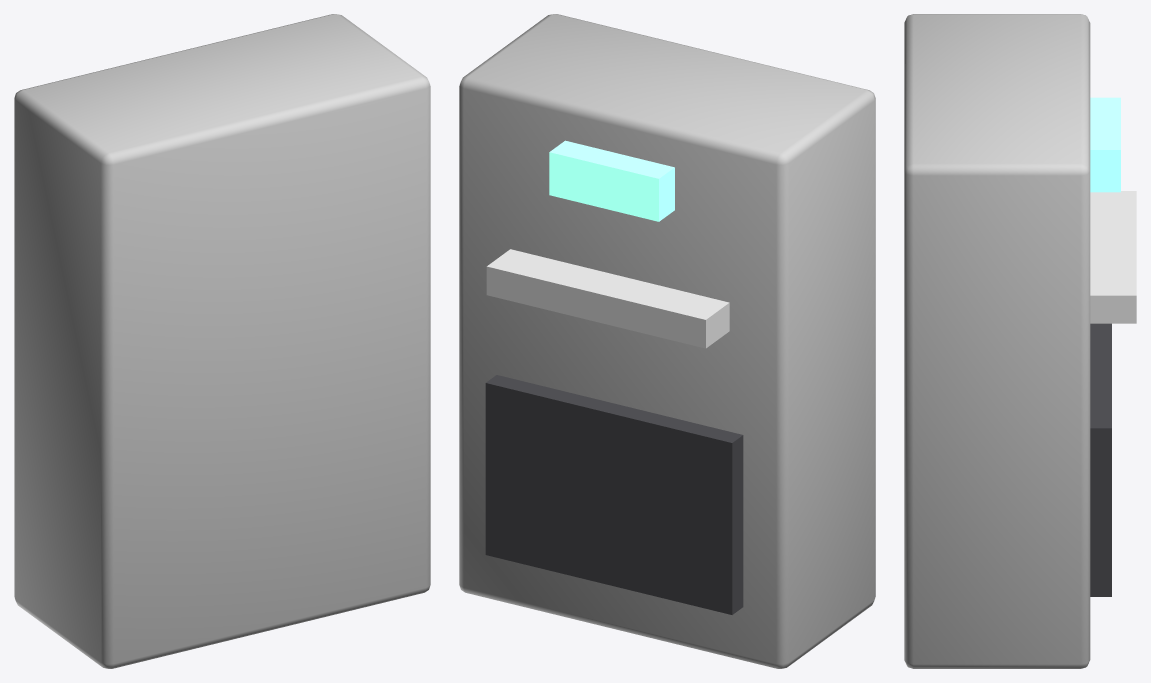
Rendered from hm_bank_card_reader_v2.glb.
3 renders of one model, left to right at view 1: azimuth 30°, elevation 25°; view 2: azimuth 150°, elevation 25°; view 3: azimuth 270°, elevation 25°, orthographic. The views are drawn at different scales.
Parts seen in each view (by area): view 1: CR_Body; view 2: CR_Body, CR_Pad, CR_Slot, CR_LED; view 3: CR_Body, CR_Slot, CR_Pad, CR_LED.
Part boxes in pixels (x1,y1,x2,y2): CR_Body: [14, 14, 430, 668]; CR_Body: [459, 14, 875, 668]; CR_Pad: [485, 375, 743, 614]; CR_Slot: [486, 249, 729, 348]; CR_LED: [549, 140, 674, 221]; CR_Body: [904, 14, 1090, 668]; CR_Slot: [1090, 191, 1136, 323]; CR_Pad: [1090, 323, 1111, 596]; CR_LED: [1090, 97, 1120, 192].
Size of the model in its own units: 0.12 by 0.18 by 0.075.
